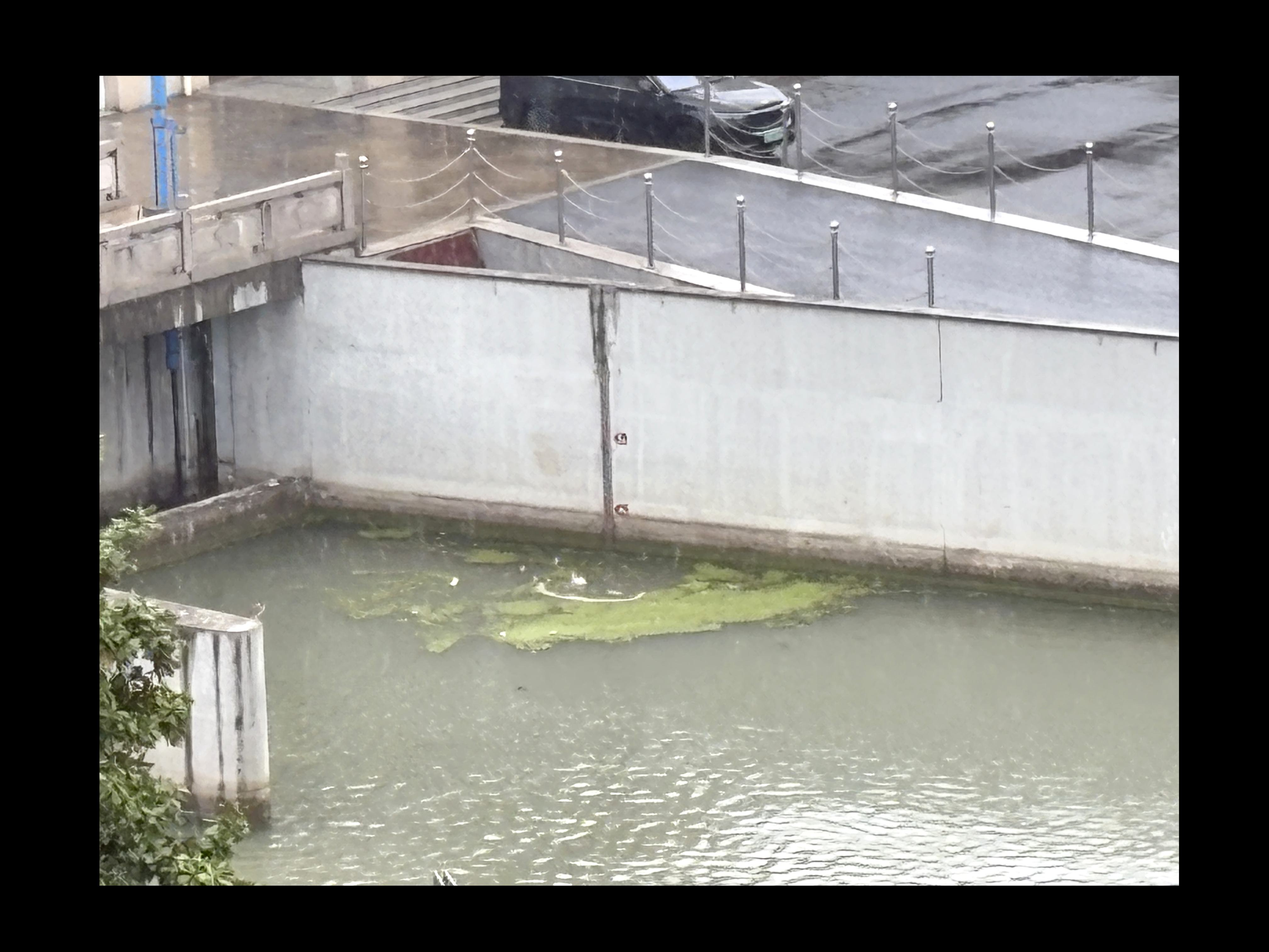Other: (691, 562, 854, 615), (590, 586, 689, 641), (514, 586, 590, 644), (408, 602, 475, 625), (464, 549, 524, 563), (358, 526, 414, 538)
Plastic wastes: (572, 576, 586, 583), (449, 577, 459, 585), (499, 632, 506, 636)
